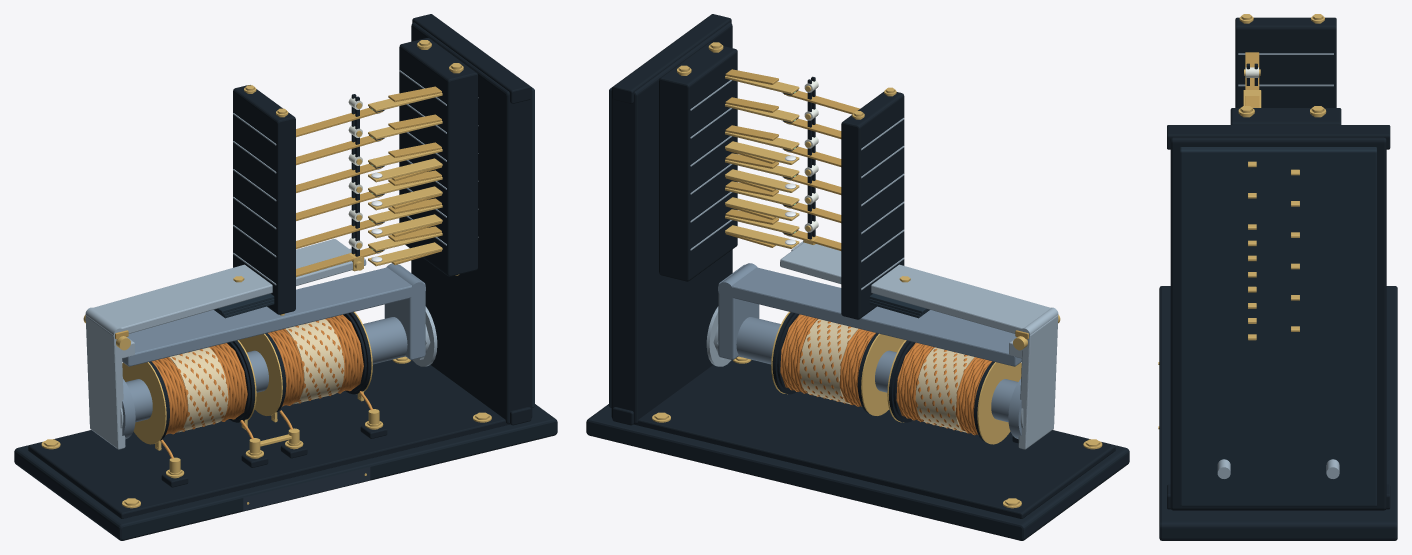
The model's file is JZXC-480-picked.glb.
3 renders of one model, left to right at view 1: azimuth 30°, elevation 25°; view 2: azimuth 150°, elevation 25°; view 3: azimuth 270°, elevation 25°, orthographic. The views are drawn at different scales.
Visible parts, largest first — view 1: base (×6), contactBlock (×2), coil (×6), armature (×2), yoke (×2), common (×6), core, back (×4); view 2: base (×5), contactBlock (×2), coil (×6), armature (×2), yoke (×2), core, back (×4); view 3: base (×4), contactBlock (×2), common.
Boxes of the visible parts, bbox=[...] form: base (×6): bbox=[14, 14, 557, 540]; contactBlock (×2): bbox=[233, 38, 477, 314]; coil (×6): bbox=[122, 314, 363, 444]; armature (×2): bbox=[85, 239, 352, 449]; yoke (×2): bbox=[122, 264, 425, 366]; common (×6): bbox=[296, 107, 383, 276]; core: bbox=[125, 317, 407, 422]; back (×4): bbox=[368, 158, 442, 266]; base (×5): bbox=[586, 14, 1129, 540]; contactBlock (×2): bbox=[659, 42, 904, 319]; coil (×6): bbox=[780, 314, 1021, 444]; armature (×2): bbox=[780, 242, 1058, 449]; yoke (×2): bbox=[718, 264, 1021, 366]; core: bbox=[736, 317, 1018, 422]; back (×4): bbox=[725, 141, 799, 248]; base (×4): bbox=[1159, 125, 1397, 540]; contactBlock (×2): bbox=[1230, 17, 1341, 124]; common: bbox=[1245, 52, 1259, 89].
Size of the model in its own units: 6.05 by 4.73 by 2.55.
